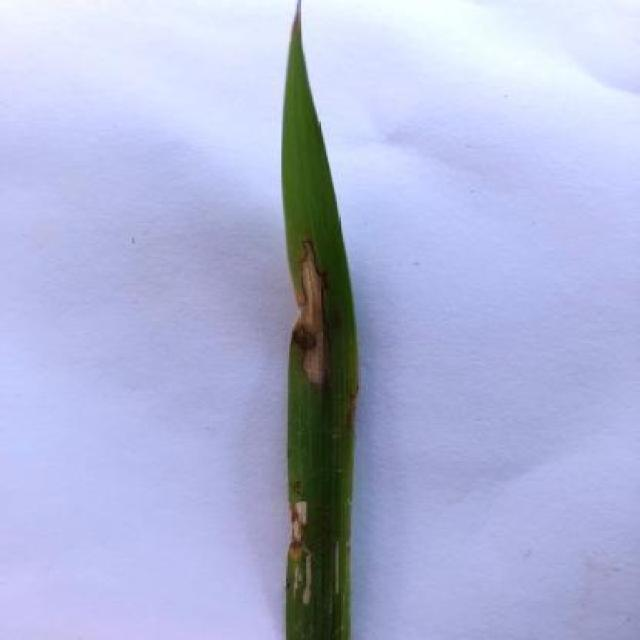Brown_Spot: (276, 0, 369, 640)
